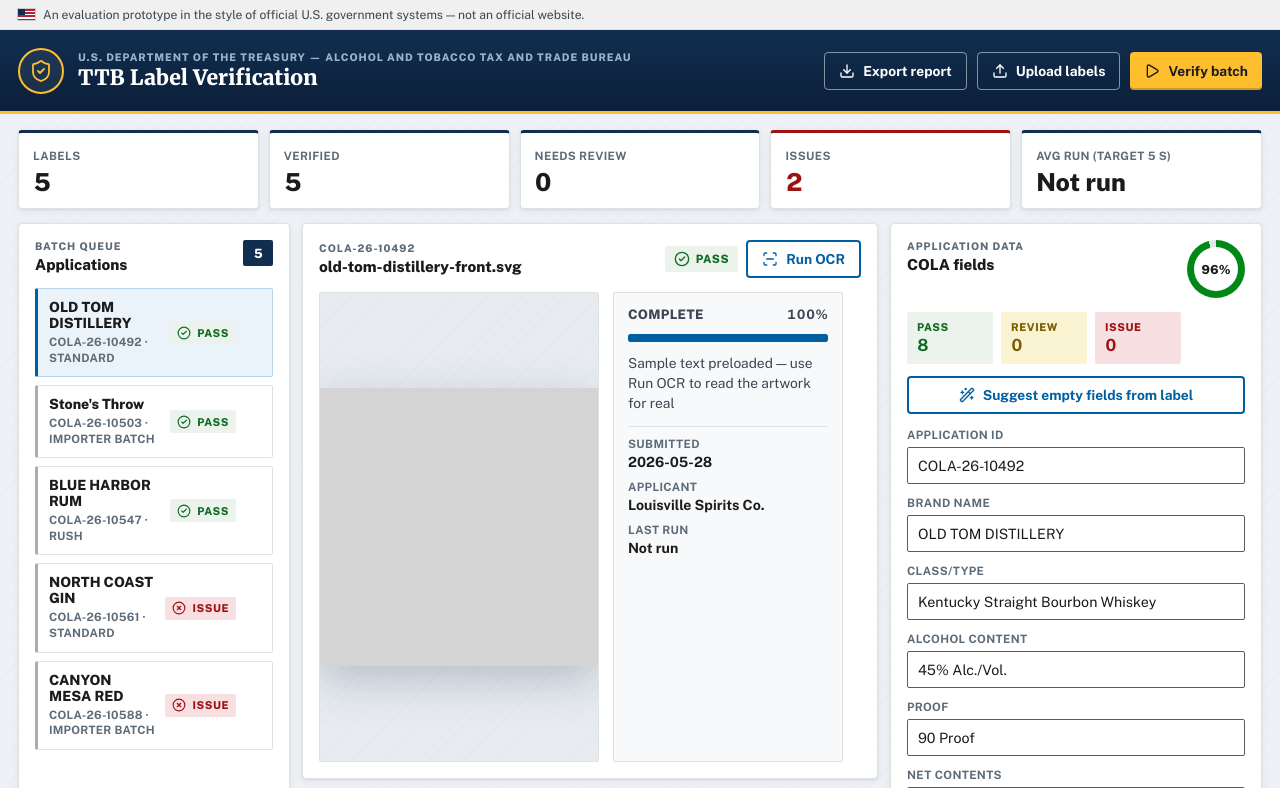
Scenario: App › counts labels already being scanned as skipped, not completed
Click the button "Run OCR" at [804, 259], box x1=746 y1=240 x2=861 y2=278
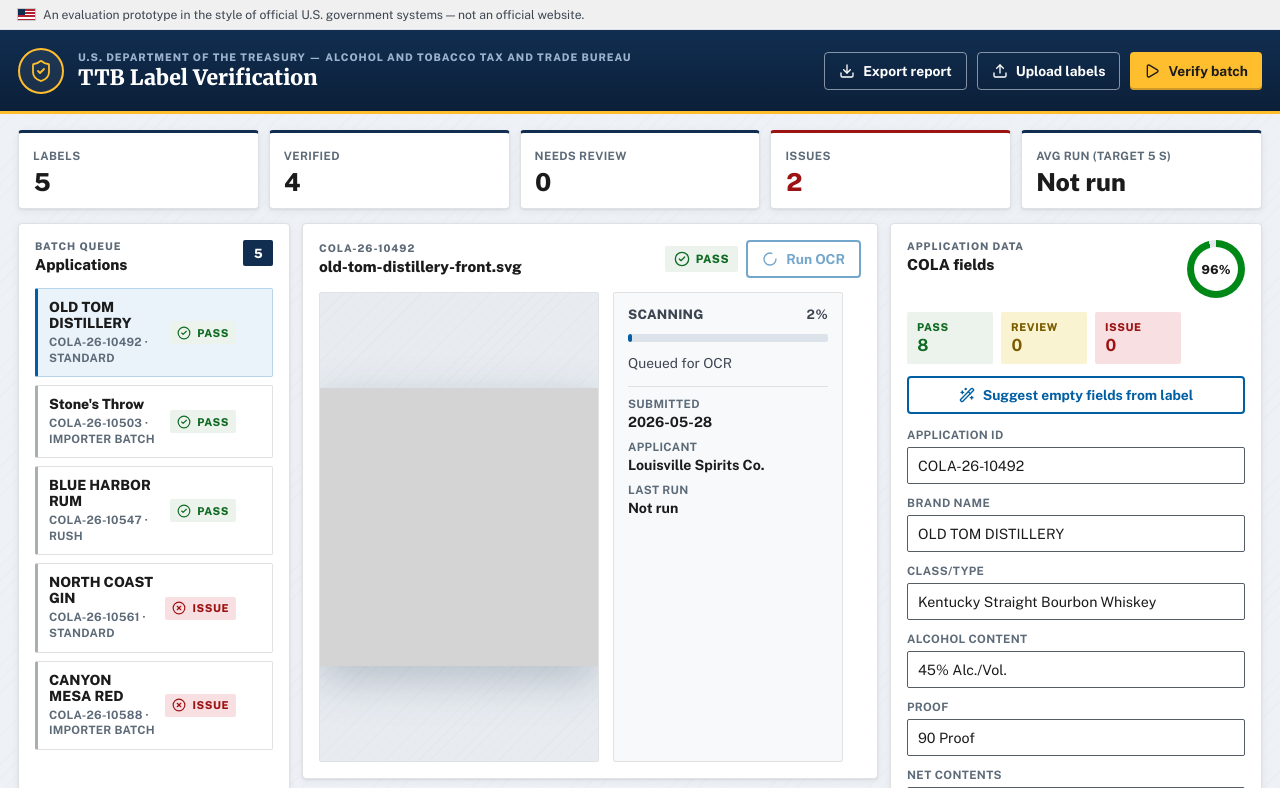
Click the button "Verify batch" at [1196, 70], box x1=1130 y1=52 x2=1262 y2=90
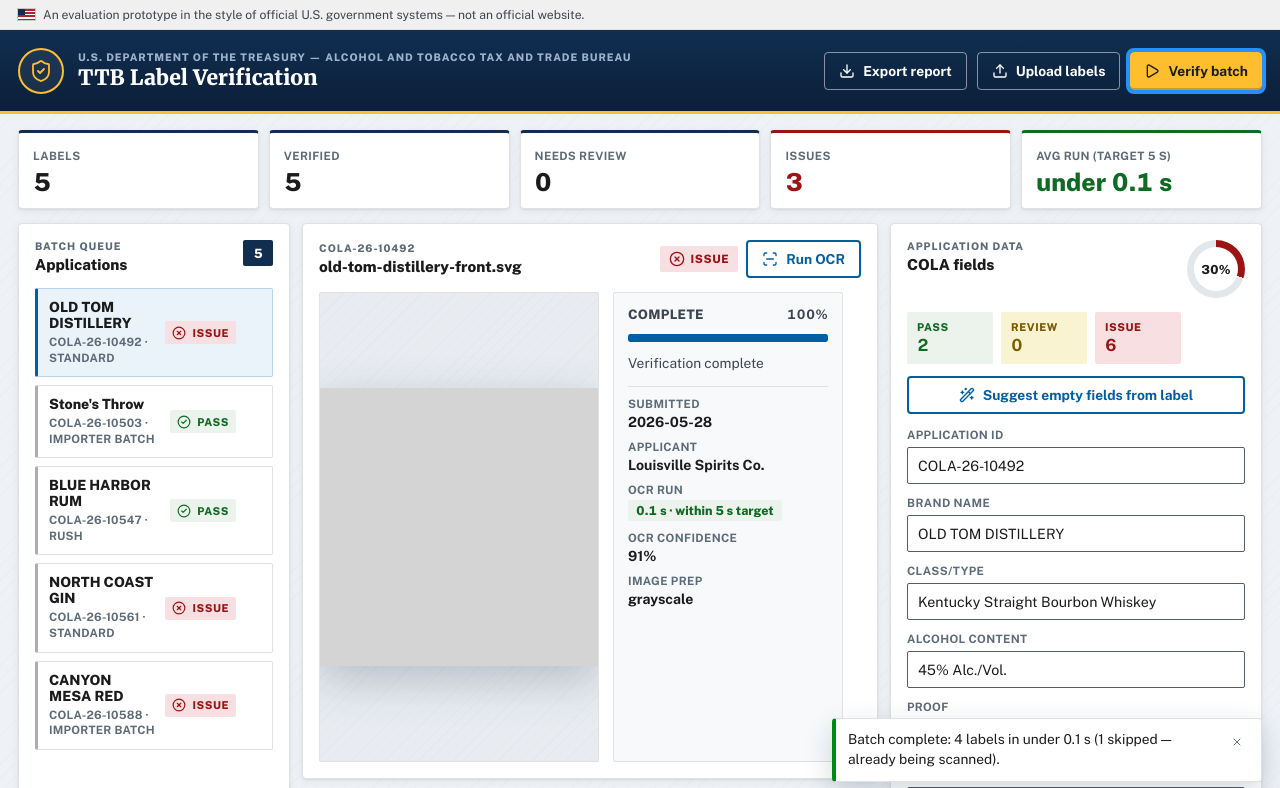
Expected: the text "skipped — already being scanned" is shown, x1=848 y1=731 x2=1171 y2=767
Expected: the text "Verification complete" is shown, x1=628 y1=355 x2=764 y2=371
